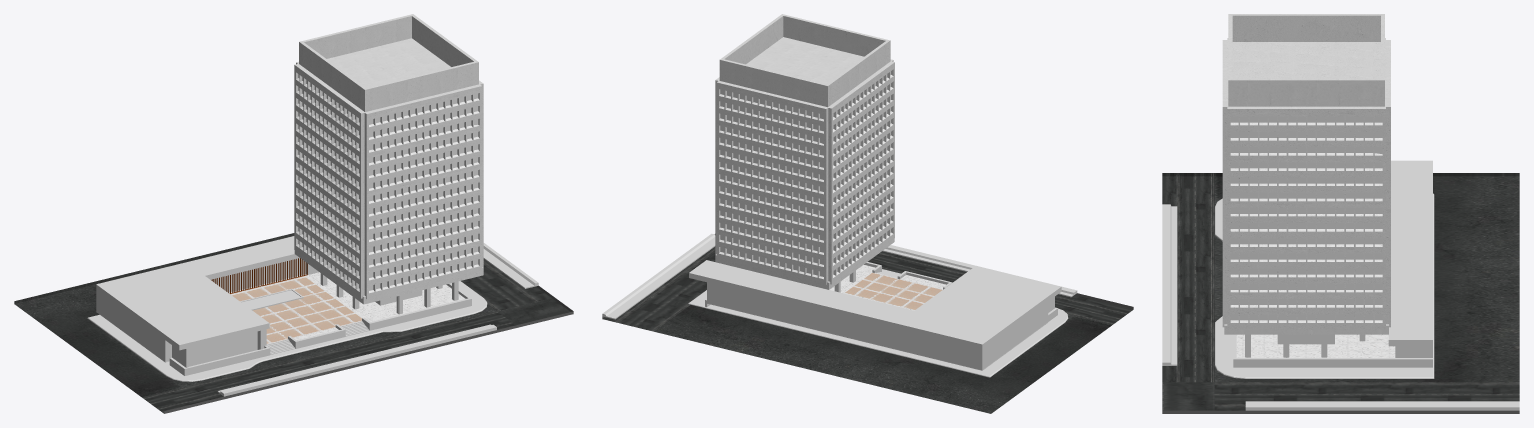
The model's file is Ramon Magsaysay Building.fbx.
3 renders of one model, left to right at view 1: azimuth 30°, elevation 25°; view 2: azimuth 150°, elevation 25°; view 3: azimuth 270°, elevation 25°, orthographic. The views are drawn at different scales.
Visible parts, largest first — view 1: Facade.001, Street.001, Memorial Hall.001, top building.001, Flooring.001, Concrete Rail.001, grills; view 2: Facade.001, Street.001, Memorial Hall.001, top building.001, Flooring.001, Concrete Rail.001; view 3: Street.001, Facade.001, top building.001, Memorial Hall.001, Flooring.001, Concrete Rail.001, Cube.001.
Part boxes in pixels (x1,y1,x2,y2): Facade.001: (294,61,483,299); Street.001: (14,233,573,413); Memorial Hall.001: (96,236,319,367); top building.001: (294,14,483,304); Flooring.001: (96,272,465,362); Concrete Rail.001: (169,283,471,375); grills: (211,258,307,293); Facade.001: (715,59,894,284); Street.001: (602,233,1133,413); Memorial Hall.001: (689,260,1061,369); top building.001: (715,14,894,289); Flooring.001: (707,265,1048,370); Concrete Rail.001: (705,262,1057,321); Street.001: (1162,173,1519,413); Facade.001: (1222,38,1390,329); top building.001: (1224,14,1388,334); Memorial Hall.001: (1388,160,1432,357); Flooring.001: (1236,334,1395,357); Concrete Rail.001: (1233,334,1432,367); Cube.001: (1277,334,1334,344).
Size of the model in its own units: 11997 by 6944 by 7622.
Materials: 11 (4 with a texture image).
